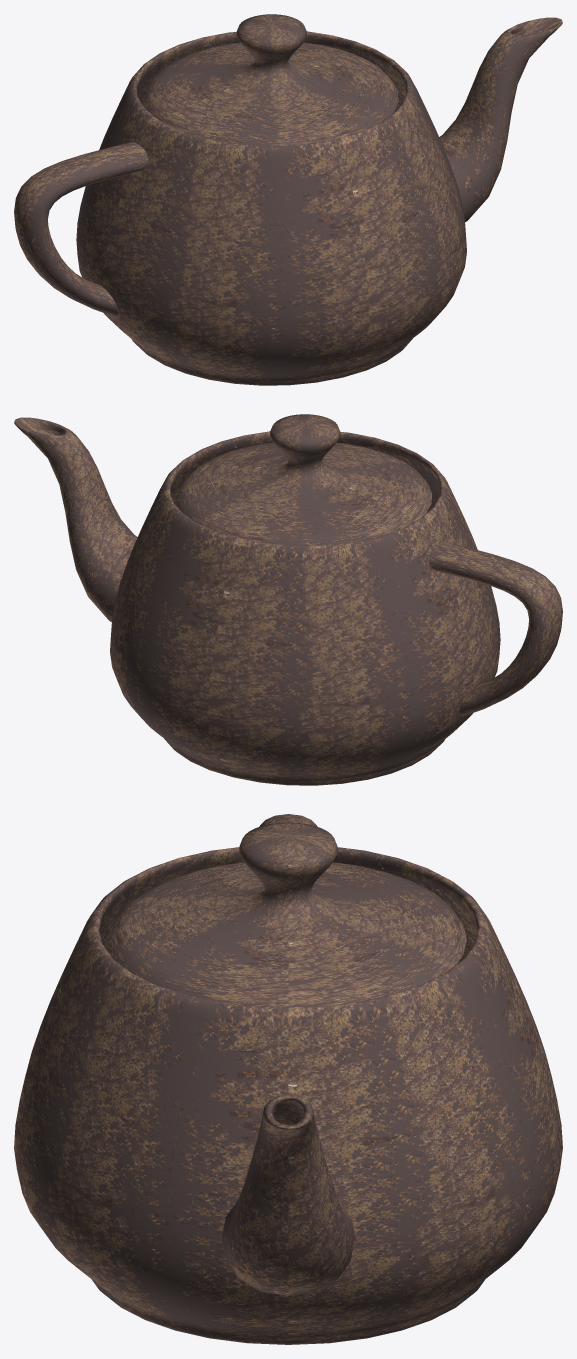
The model's file is 2st_2room_teapor.FBX.
3 renders of one model, top to bottom at view 1: azimuth 30°, elevation 25°; view 2: azimuth 150°, elevation 25°; view 3: azimuth 270°, elevation 25°, orthographic. The views are drawn at different scales.
Parts seen in each view (by area): view 1: Teapot002; view 2: Teapot002; view 3: Teapot002.
Part boxes in pixels (x1,y1,x2,y2): Teapot002: (14, 14, 562, 385); Teapot002: (14, 414, 562, 785); Teapot002: (14, 814, 562, 1344).
Size of the model in its own units: 31.19 by 17.06 by 19.39.
